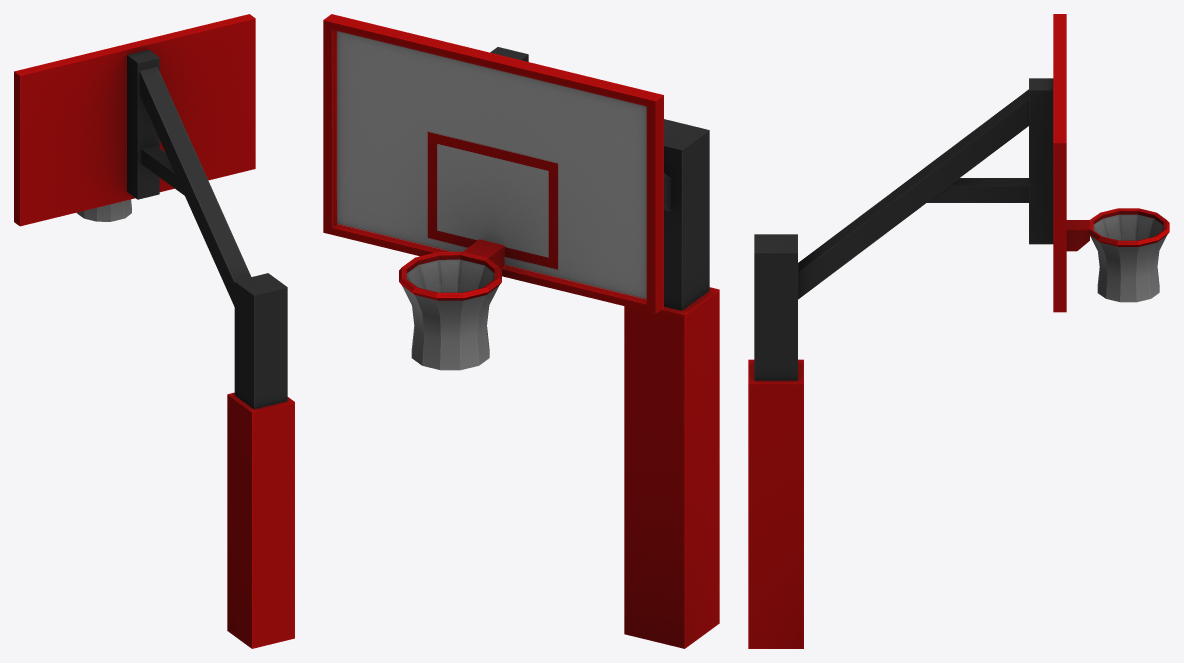
The model's file is Hoop.fbx.
3 views of the same model, side by side, from view 1: azimuth 30°, elevation 25°; view 2: azimuth 150°, elevation 25°; view 3: azimuth 270°, elevation 25° (orthographic). The views are drawn at different scales.
Visible parts, largest first — view 1: BasketBallCourt.001, Hoop; view 2: BasketBallCourt.001, Hoop; view 3: BasketBallCourt.001, Hoop.
Part boxes in pixels (<box>): BasketBallCourt.001: <box>14,14,294,648</box>; Hoop: <box>77,199,131,221</box>; BasketBallCourt.001: <box>323,14,719,648</box>; Hoop: <box>399,251,501,370</box>; BasketBallCourt.001: <box>748,14,1089,648</box>; Hoop: <box>1087,208,1169,302</box>.
Bounding box in the file's own units: 180 × 363 × 248.
